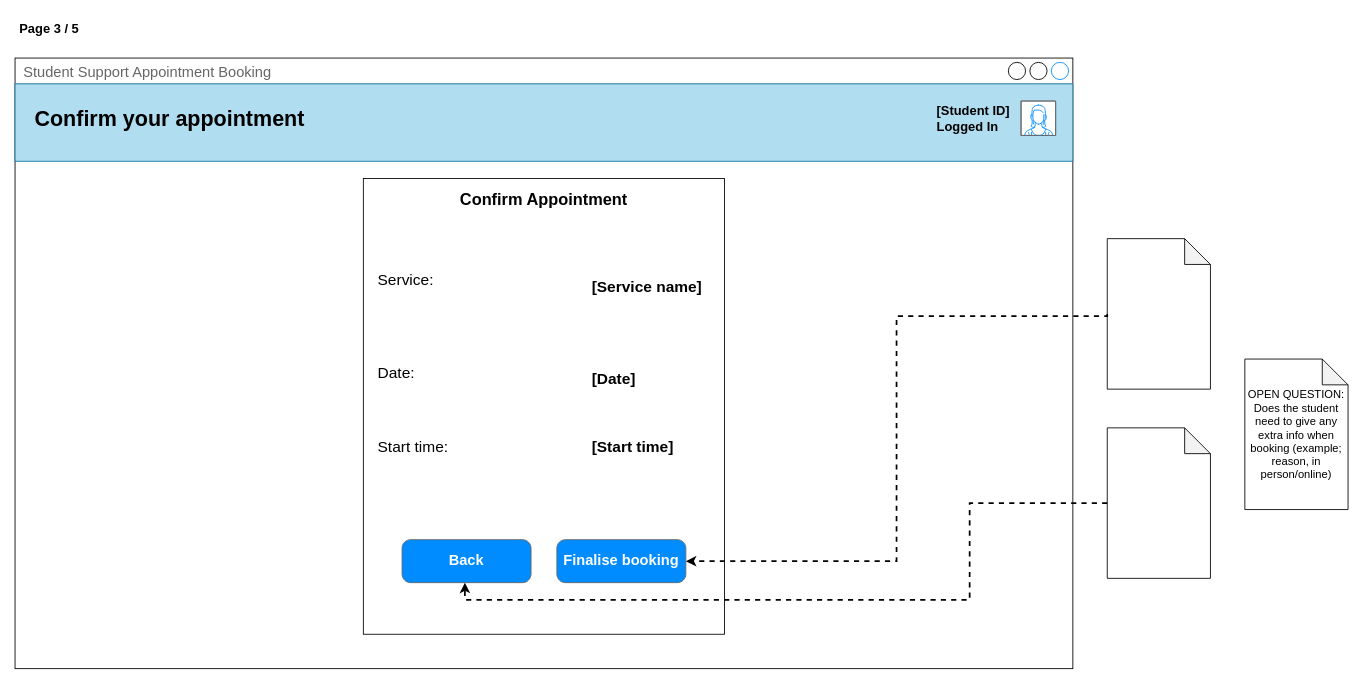
This 1363x684 diagram has some shape labels left out. Here are the shapes that lost their labels. From the top down, the centre of each, then its label:
At pixel 1158 313: "FR-04 - authenticated student books an available slot".
At pixel 1158 502: "Alt flow 3b - student backs out; no booking recorded".
